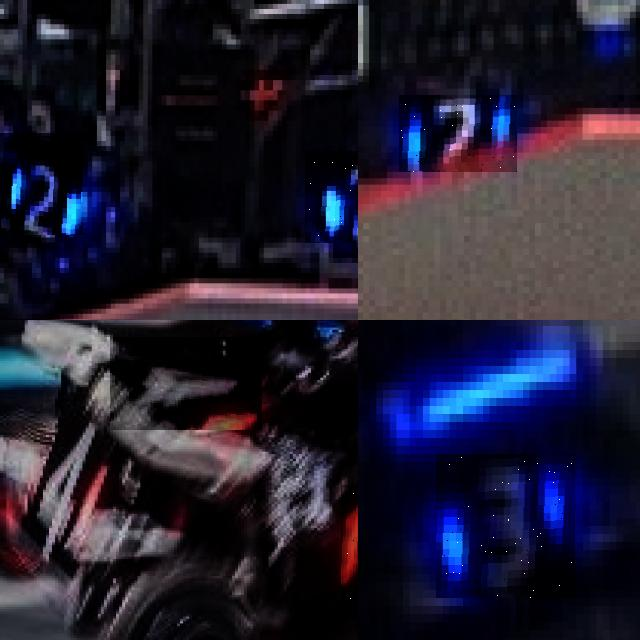B2: (399, 95, 517, 172), (0, 133, 83, 234), (305, 151, 358, 242)
B3: (436, 454, 576, 598)
R4: (110, 337, 262, 430), (43, 402, 107, 554)
